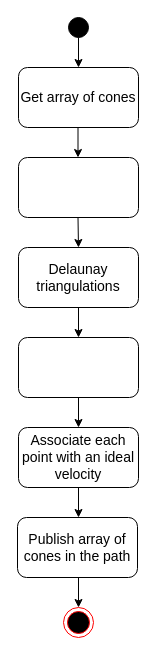
The diagram is 156 pixels wide and 655 high, and some of its shapes have lost their labels. Each missing label, with the centre of its shape:
Add points and smooth the path: (78,367)
Remove outliers using splines: (78,187)
